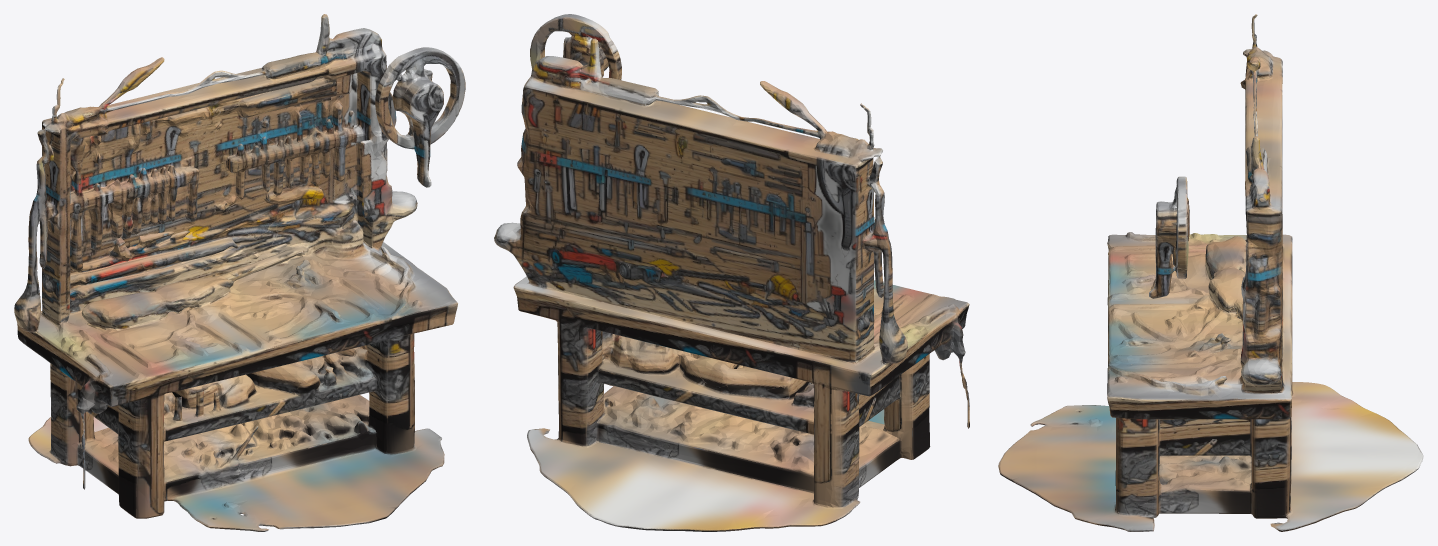
Rendered from workbench.glb.
3 views of the same model, side by side, from view 1: azimuth 30°, elevation 25°; view 2: azimuth 150°, elevation 25°; view 3: azimuth 270°, elevation 25° (orthographic). The views are drawn at different scales.
Parts seen in each view (by area): view 1: workbench; view 2: workbench; view 3: workbench.
Boxes of the visible parts, <box> form: workbench: <box>14,14,465,531</box>; workbench: <box>494,14,969,531</box>; workbench: <box>998,14,1423,531</box>.
Size of the model in its own units: 1.22 by 1.12 by 1.16.
Materials: 1 (1 with a texture image).
